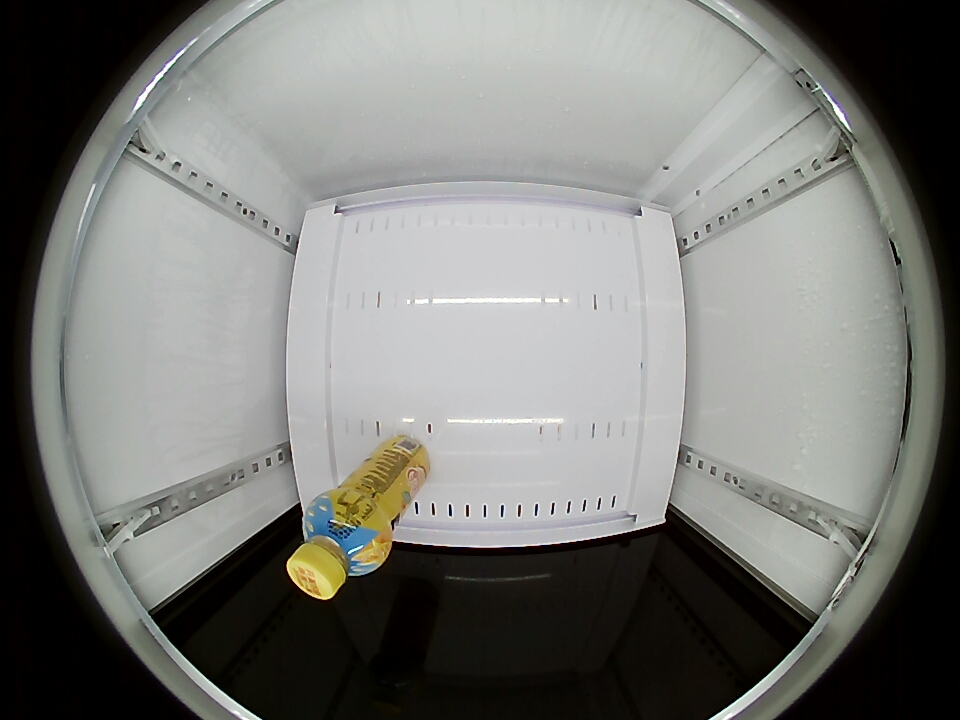guolicheng: (288, 496, 391, 600)
